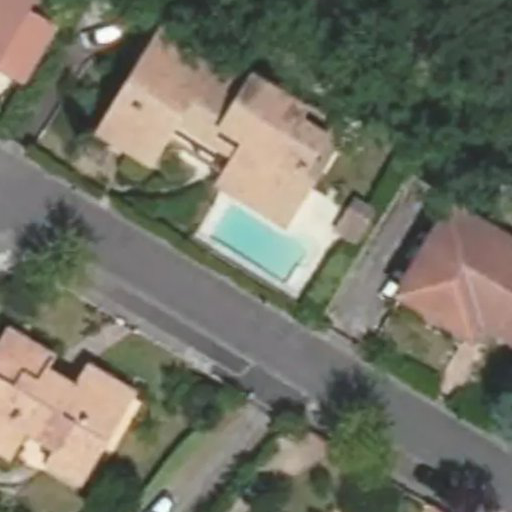pool: (205, 235, 306, 248)
